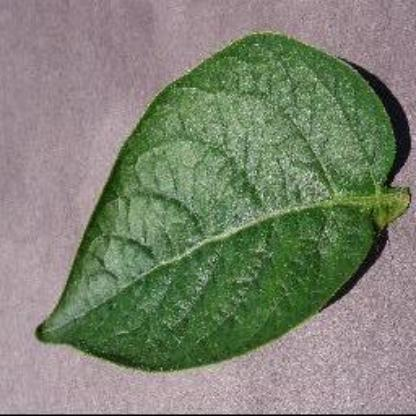Healthy-plant: (36, 32, 400, 374)
